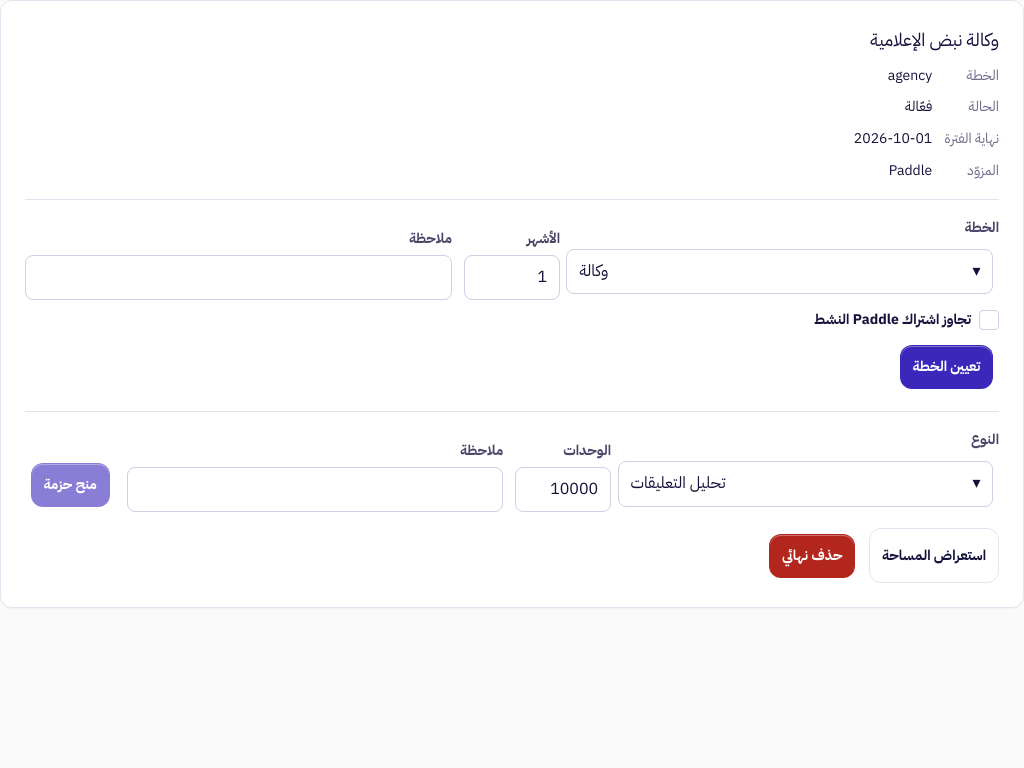
Test: WorkspaceRow › the plan form sends the chosen plan, the months, a null note for an empty one, and the override
Click the dropdown named "اختر خطة".
click(594, 271)  # box [566, 249, 993, 294]
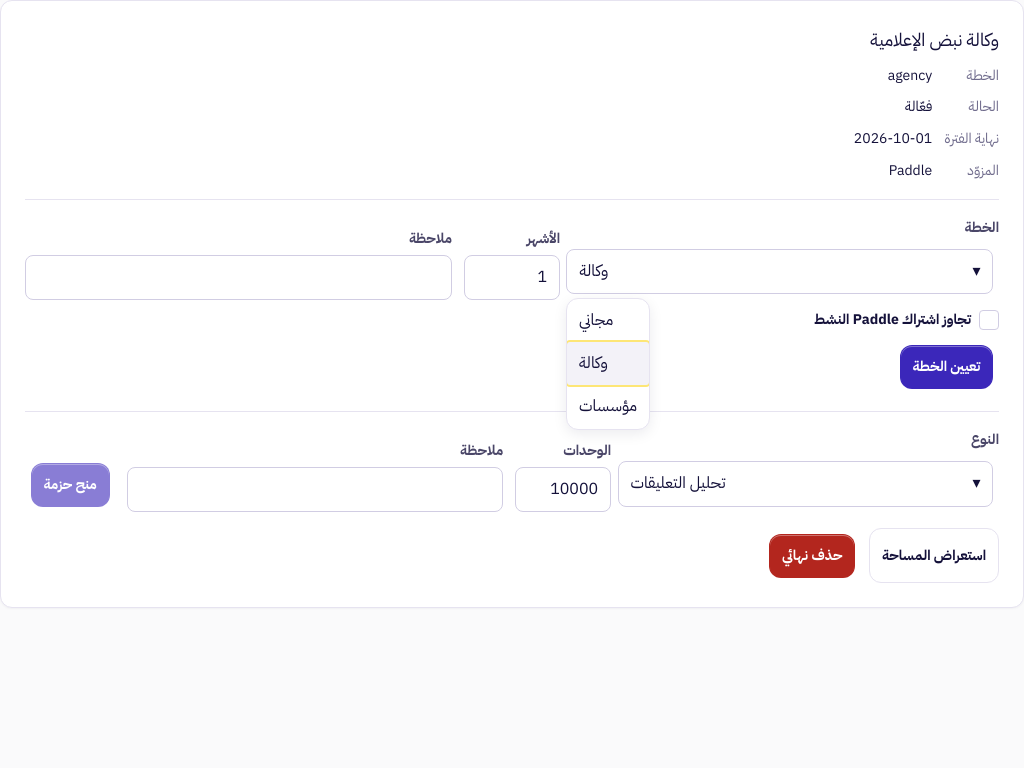
Click the option "مؤسسات".
click(608, 406)  # box [579, 394, 637, 418]
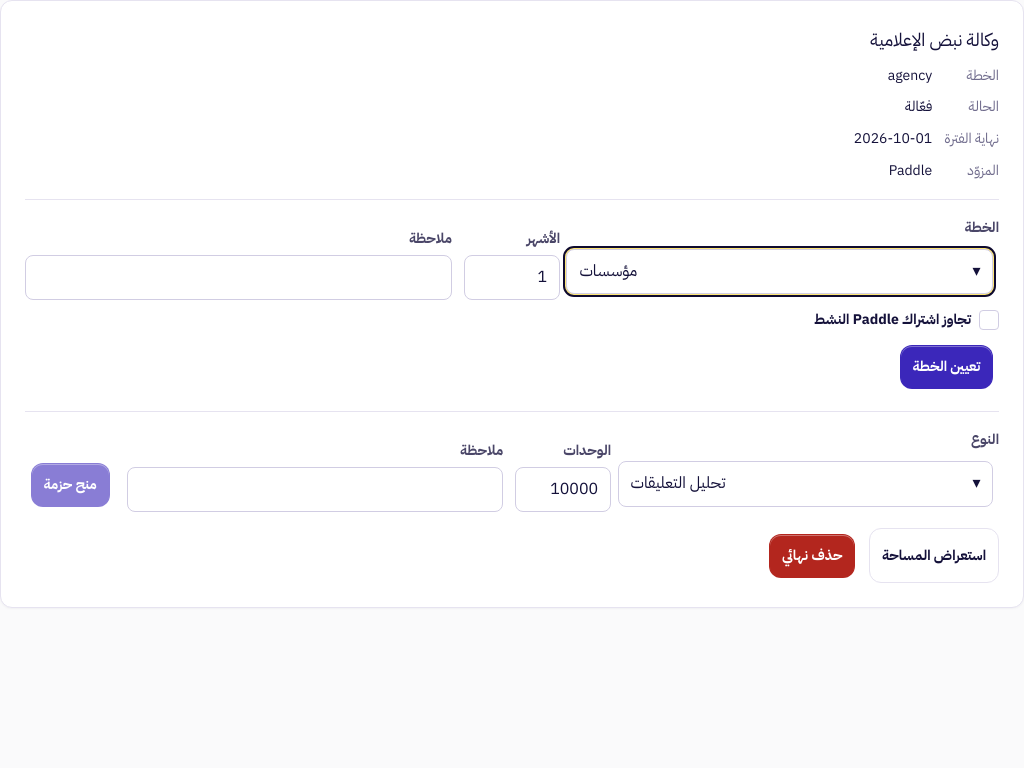
Replace the text in the number field labelled "الأشهر" with "6" at coordinates (512, 277), box [464, 255, 560, 300]
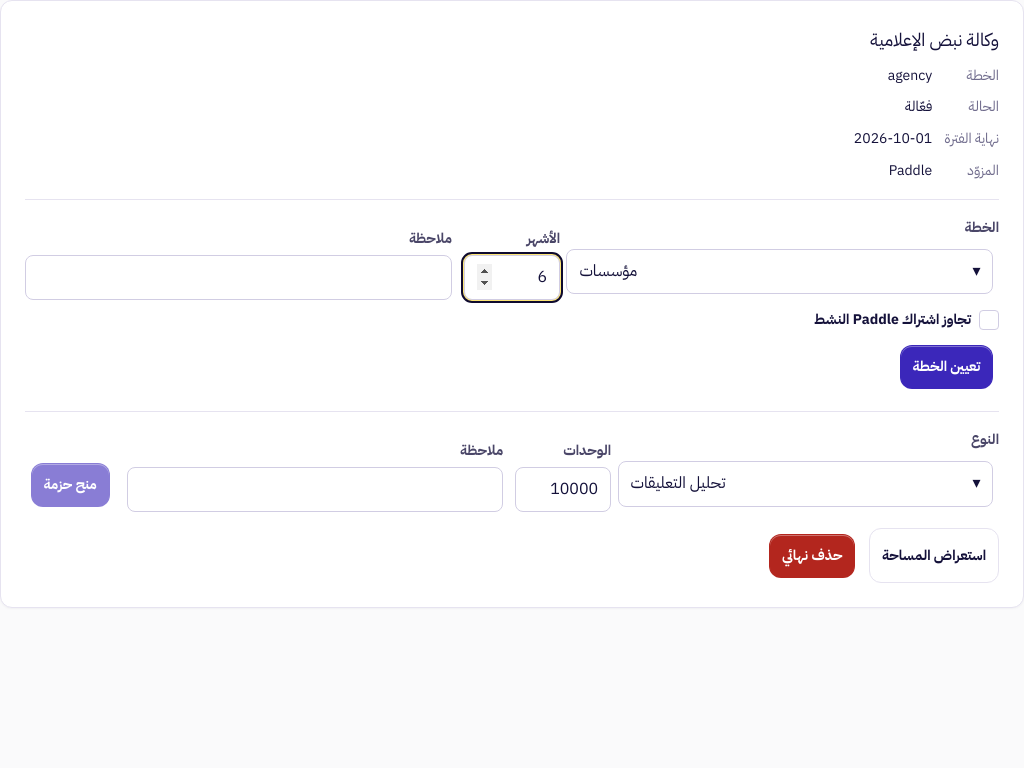
Click the checkbox named "تجاوز اشتراك Paddle النشط".
click(989, 320)  # box [979, 310, 999, 330]
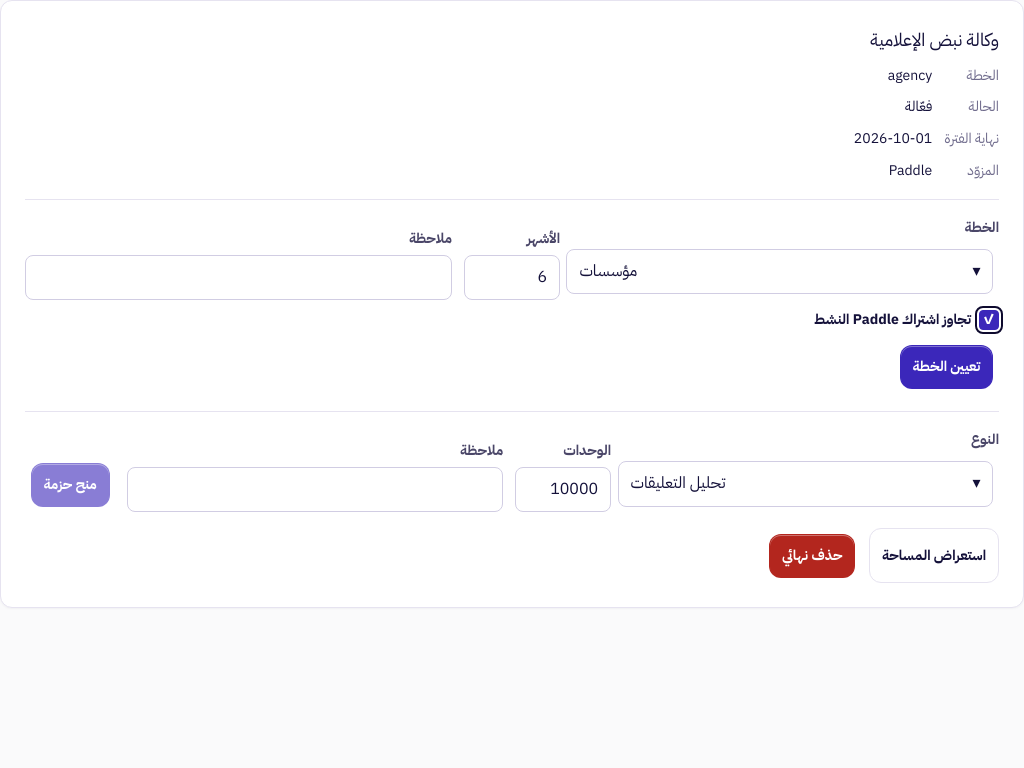
Click the button "تعيين الخطة".
click(946, 367)  # box [900, 345, 993, 389]
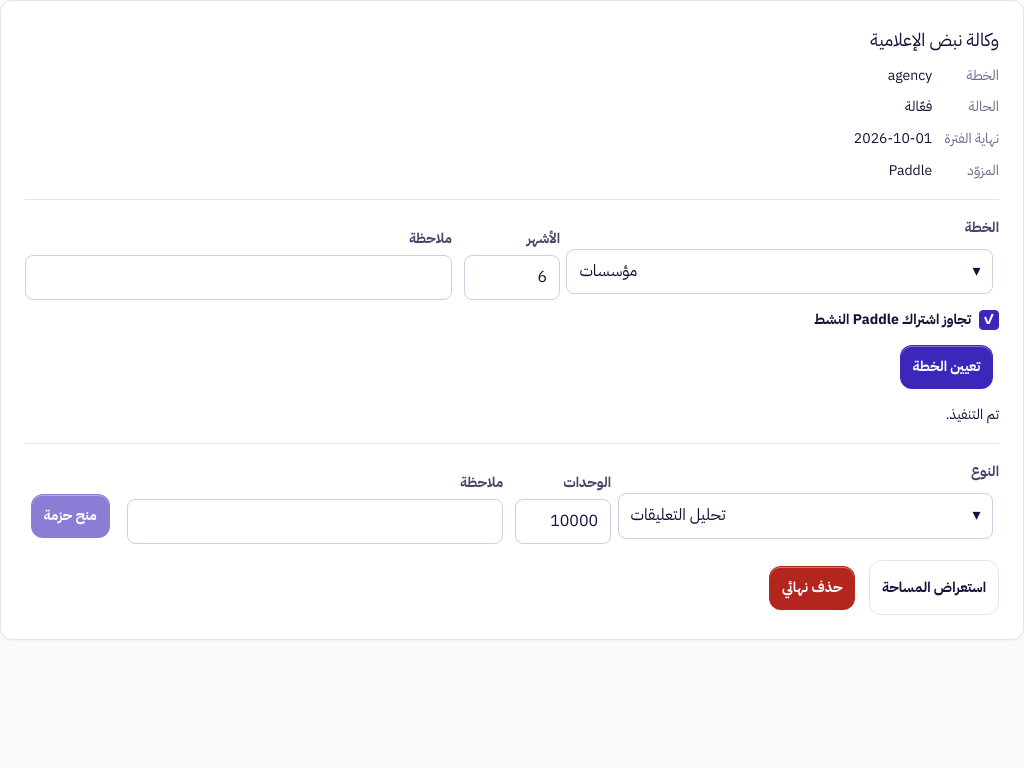
Result: the message reads "تم التنفيذ." at [946, 404, 999, 425]
